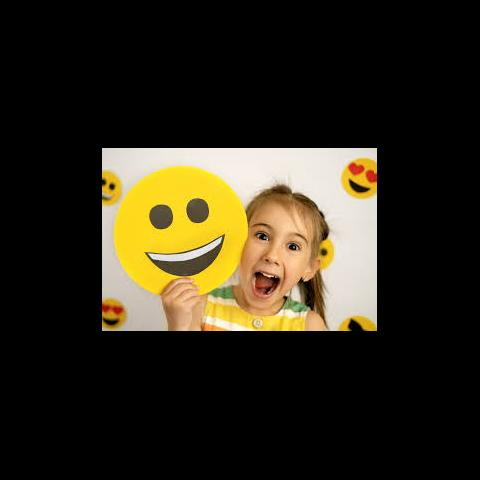opened: (255, 220, 310, 262)
